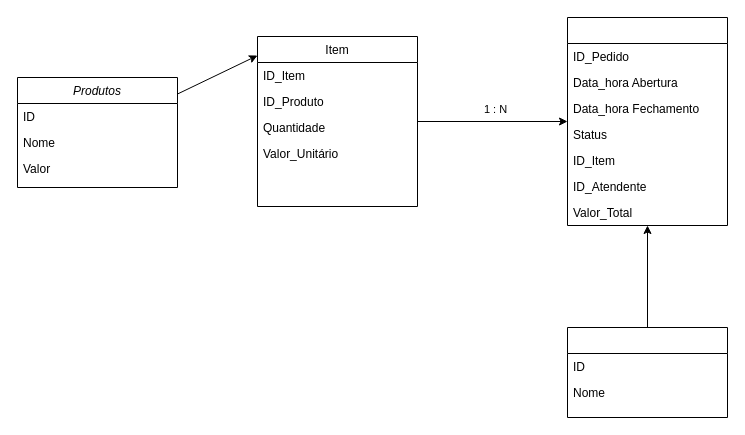
Image size: 745x435. Some labels were removed from this diagram. Each missing label, with the box of its shape:
Atendente: (566, 326, 728, 418)
Pedidos: (566, 16, 728, 226)
